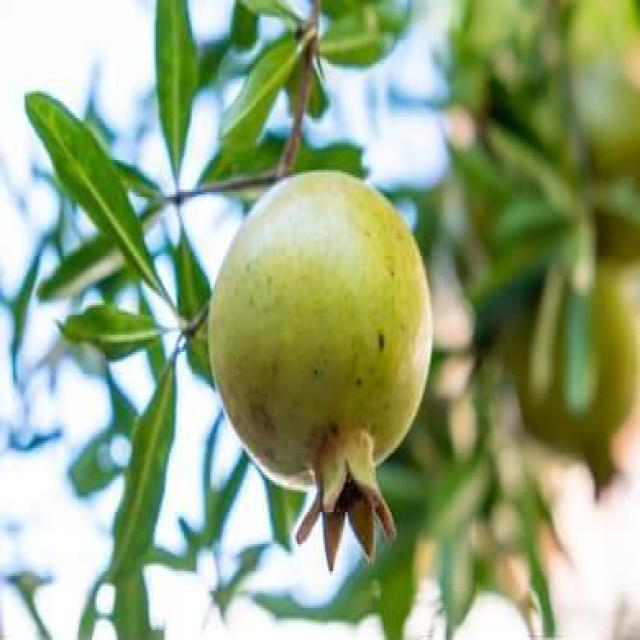Pomegranate: (207, 165, 436, 572)
